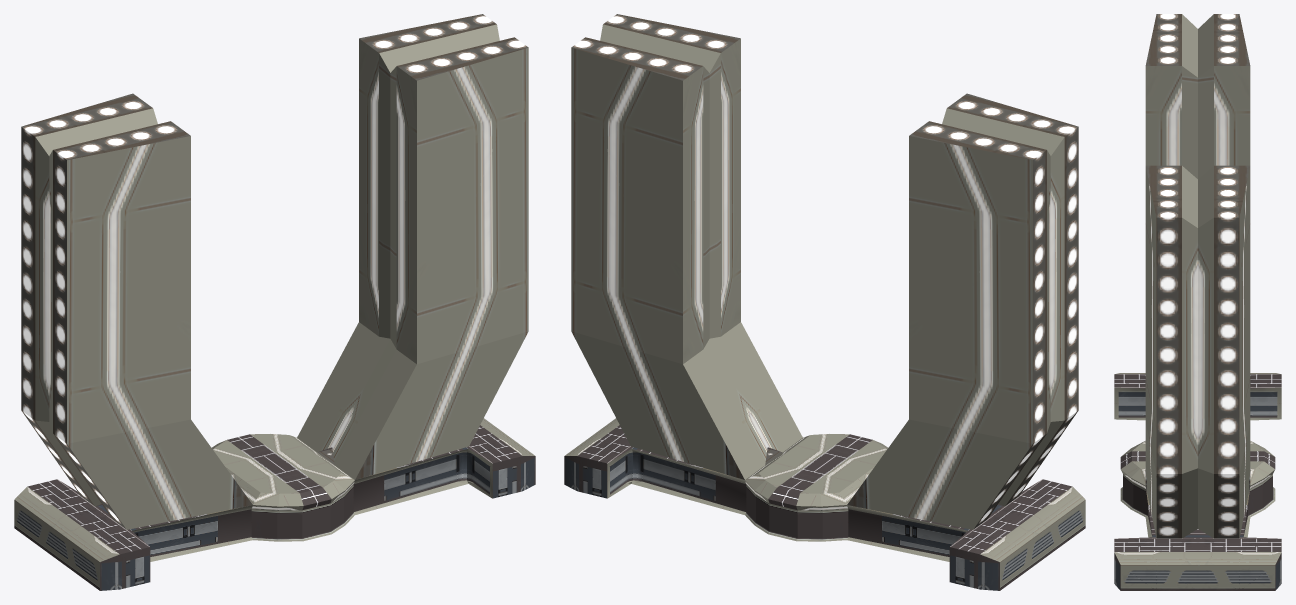
File: KF_SM_PreBuild2.fbx
The picture shows the model from 3 angles, left to right: view 1: azimuth 30°, elevation 25°; view 2: azimuth 150°, elevation 25°; view 3: azimuth 270°, elevation 25°; orthographic projection. The views are drawn at different scales.
Parts seen in each view (by area): view 1: Box038; view 2: Box038; view 3: Box038.
Part boxes in pixels (bbox=[...]): Box038: bbox=[14, 14, 535, 590]; Box038: bbox=[564, 14, 1085, 590]; Box038: bbox=[1114, 14, 1281, 590].
Size of the model in its own units: 20218 by 17550 by 7031.
